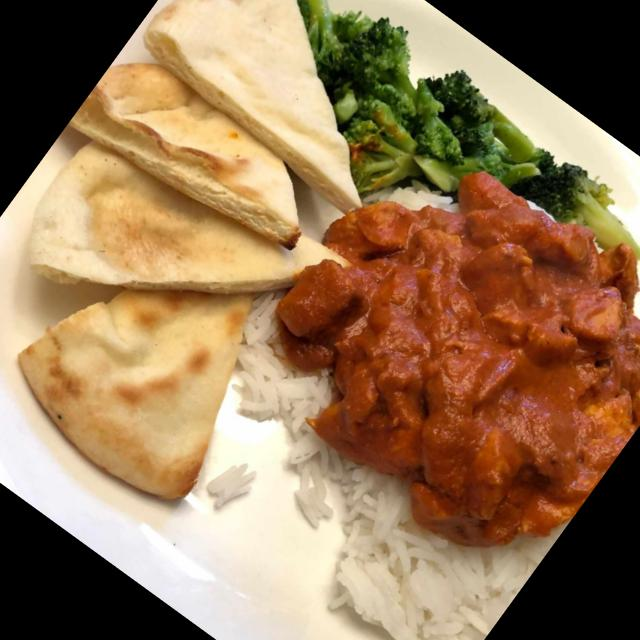chicken: (251, 121, 640, 568)
roti: (0, 0, 409, 486)
